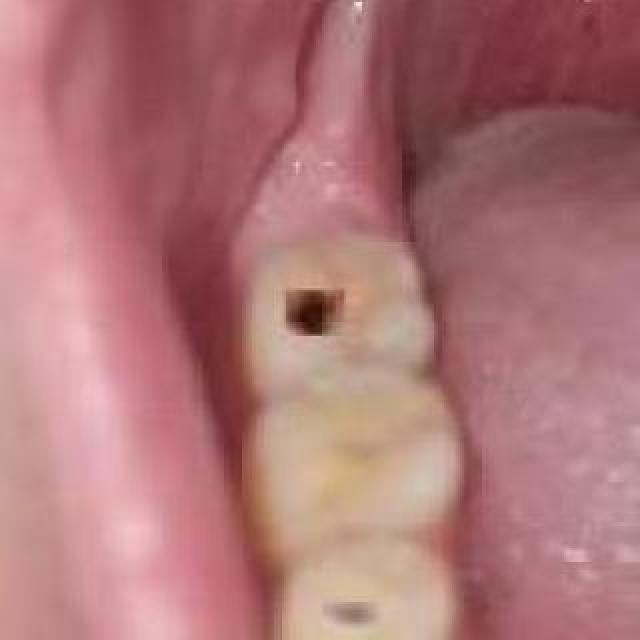cavities: (242, 246, 410, 368)
